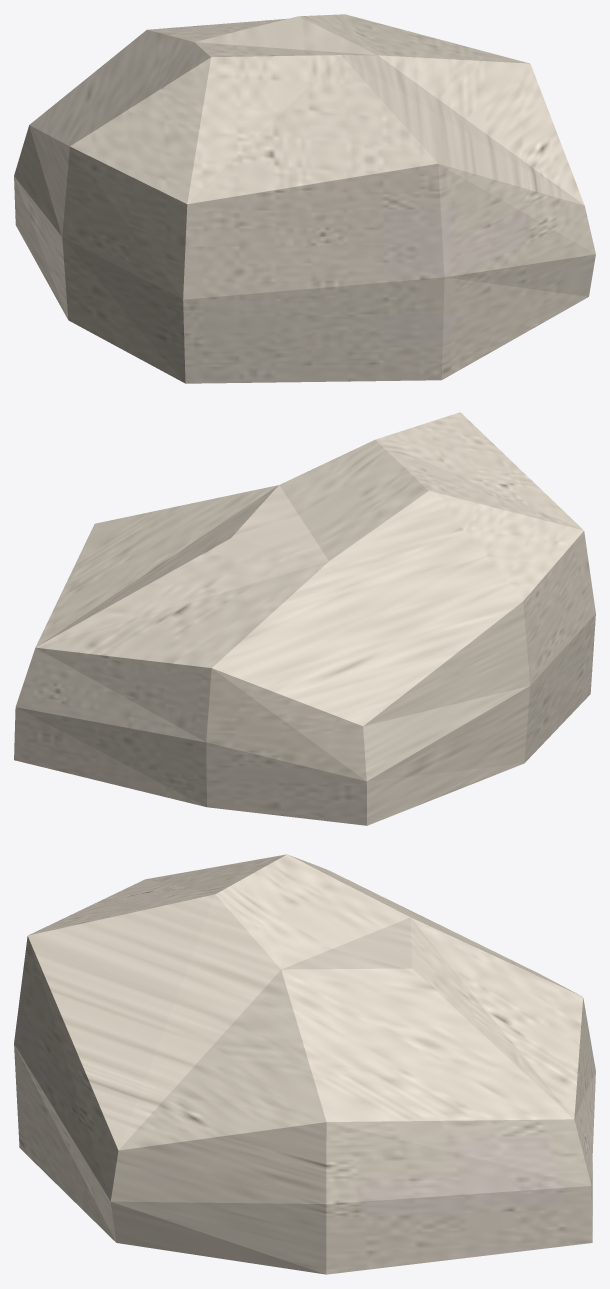
File: Rock2_modified.gltf
3 renders of one model, top to bottom at view 1: azimuth 30°, elevation 25°; view 2: azimuth 150°, elevation 25°; view 3: azimuth 270°, elevation 25°, orthographic. The views are drawn at different scales.
Visible parts, largest first — view 1: Rock2_modified; view 2: Rock2_modified; view 3: Rock2_modified.
Boxes of the visible parts, x1,y1,x2,y2 form: Rock2_modified: (14, 14, 595, 383); Rock2_modified: (14, 412, 595, 825); Rock2_modified: (14, 854, 595, 1274).
Bounding box in the file's own units: 79.34 × 39.57 × 82.68.
Materials: 1 (1 with a texture image).
